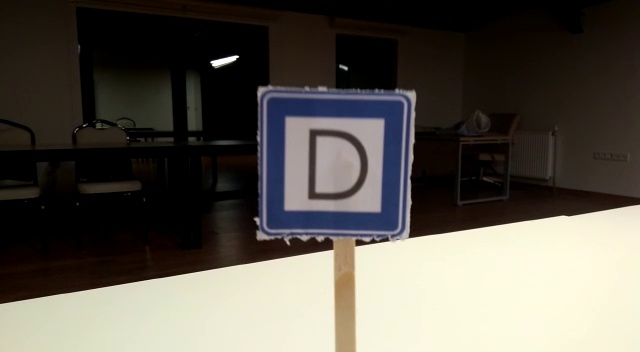durak: (258, 94, 412, 237)
